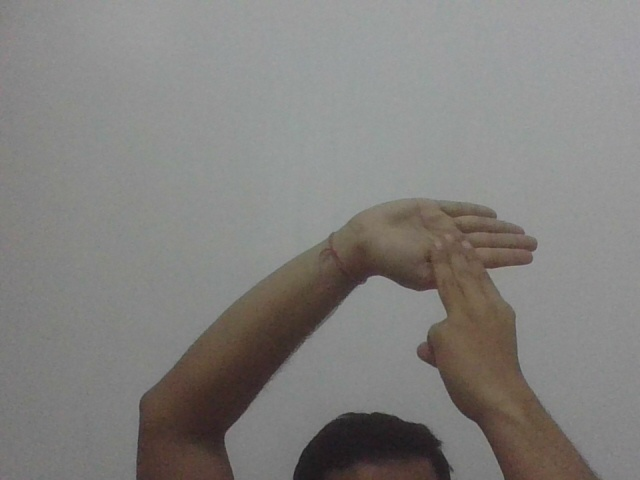M: (360, 195, 542, 337)
